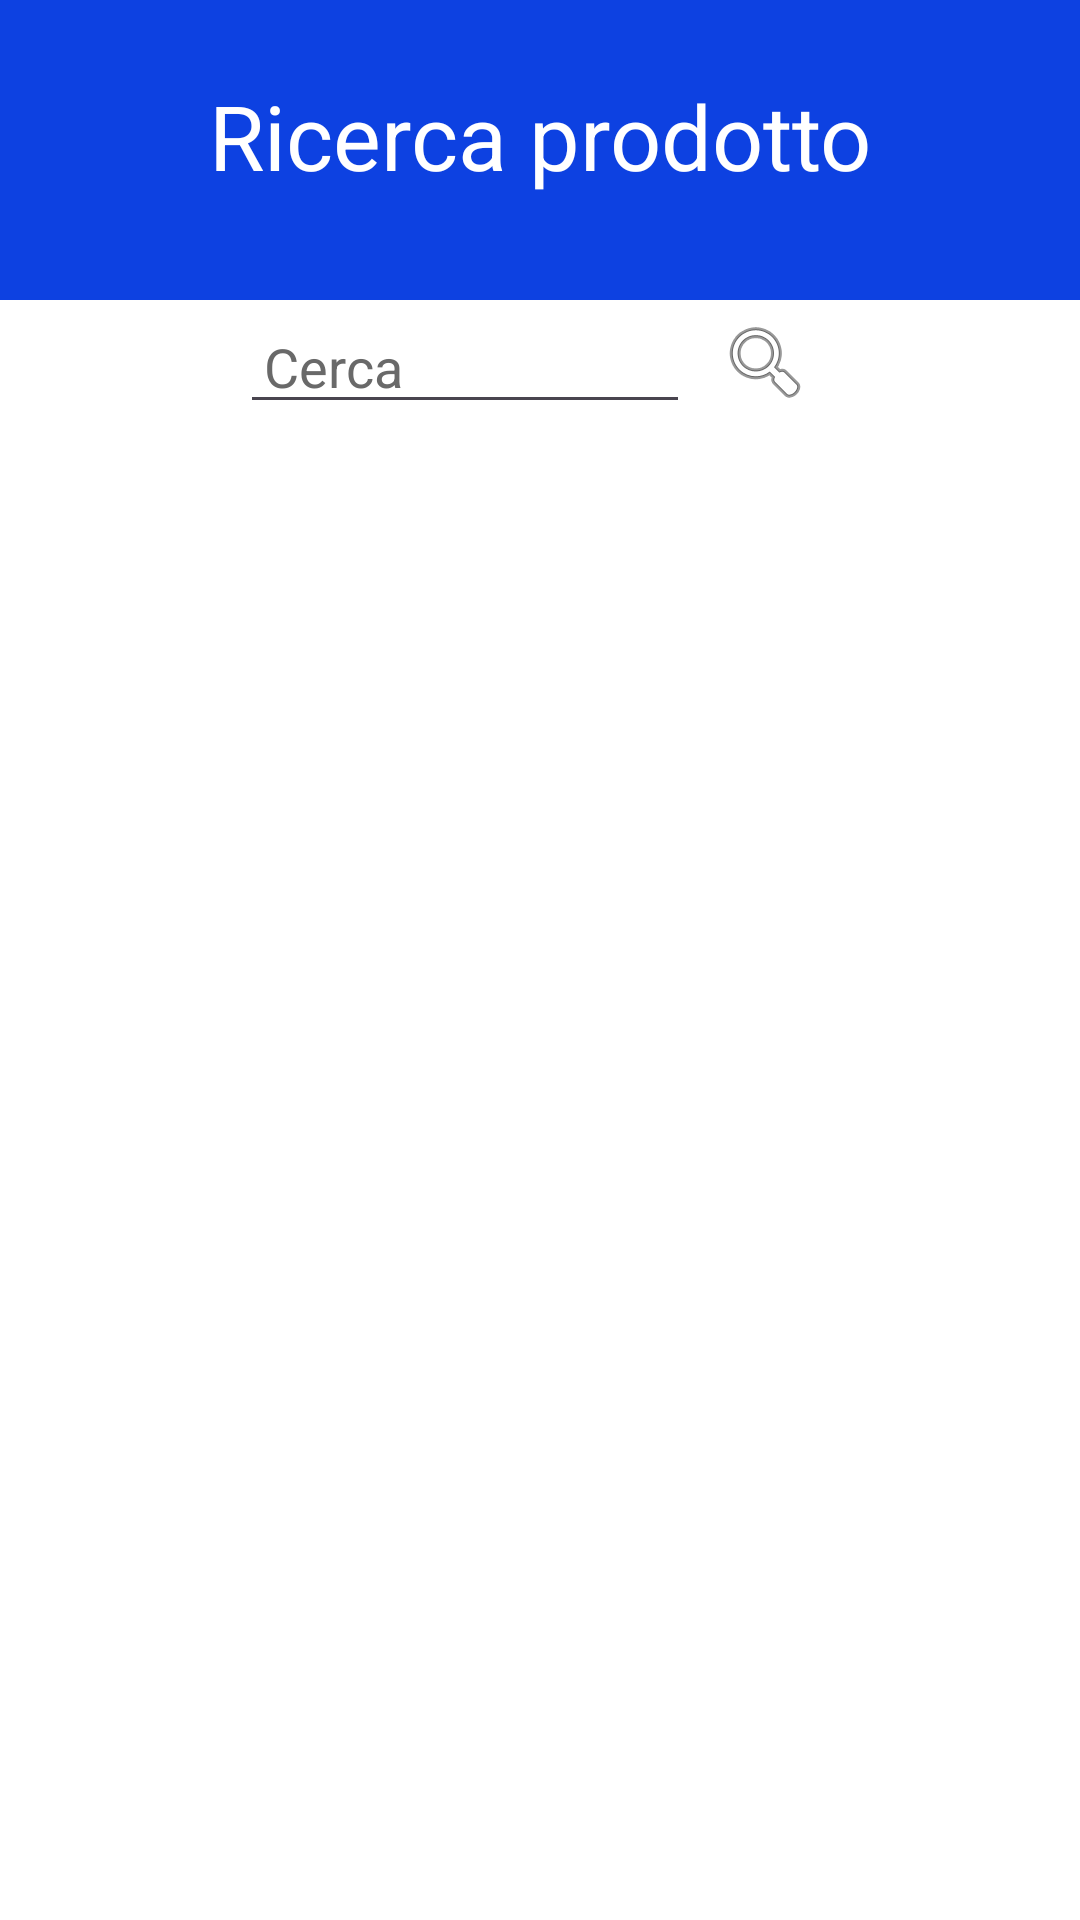

Where icons sit on this 1080w x 1920h app screen, as detection(x1, y1, x2, y2):
search: detection(729, 327, 801, 398)
